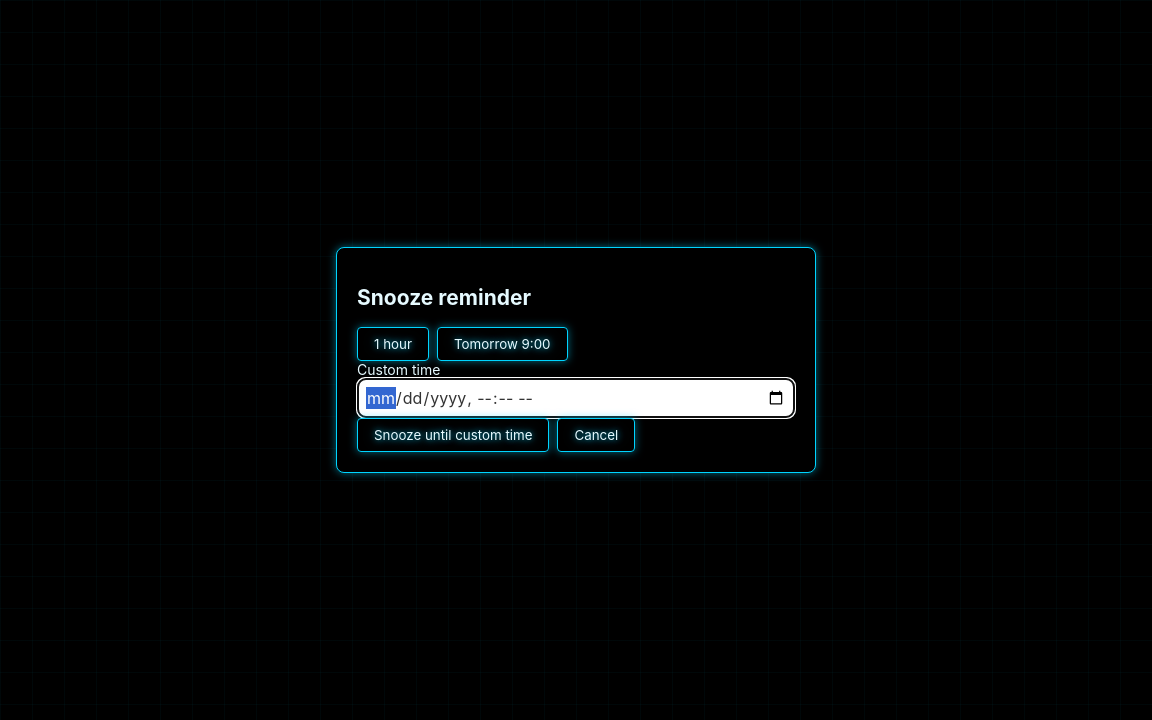
SnoozeDialog › an empty custom time is refused
Click the button "Snooze until custom time". click: point(453, 435)
box: [357, 418, 549, 452]
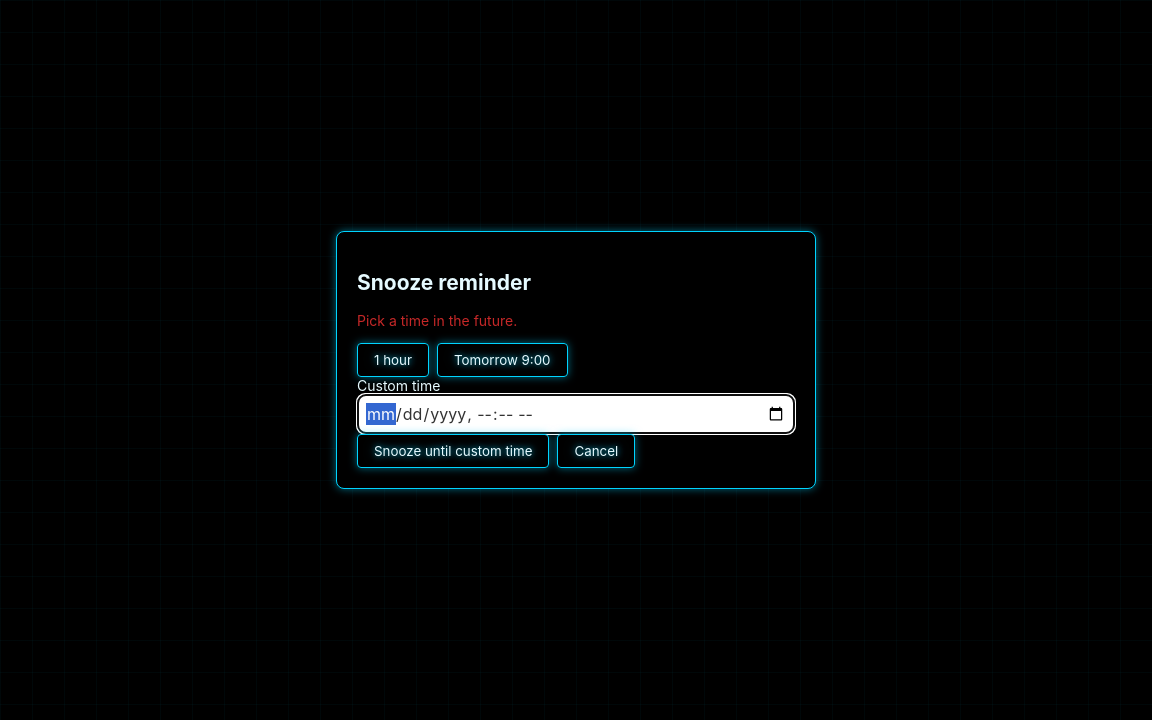
Result: the message "Pick a time in the future." is shown at [357, 312, 517, 329]
